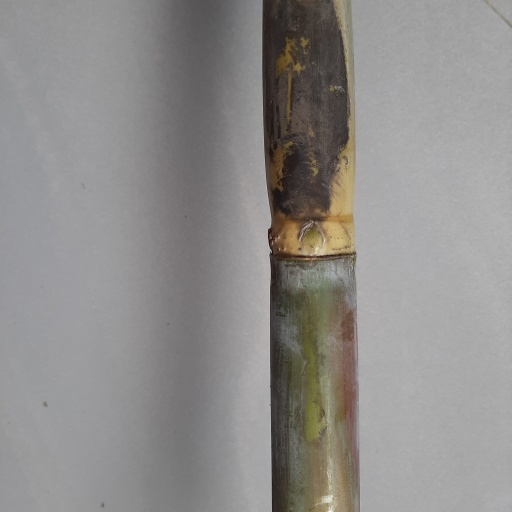Bud: (298, 220, 327, 258)
